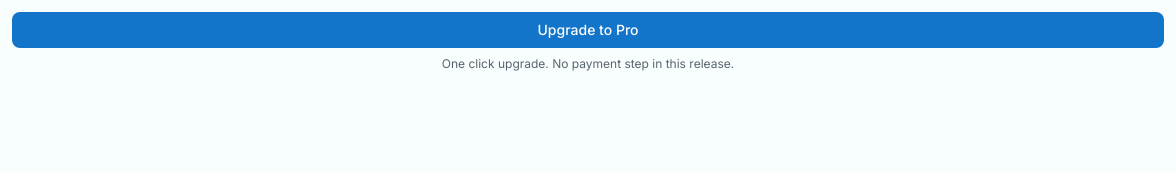
upgrade to pro button › shows API error message when upgrade fails
Click the button "Upgrade to Pro" at [588, 30], box [12,12,1164,48]
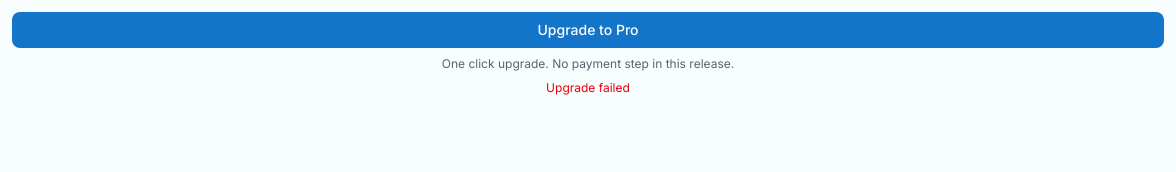
Result: the text "Upgrade failed" is shown at [546,80,630,95]
